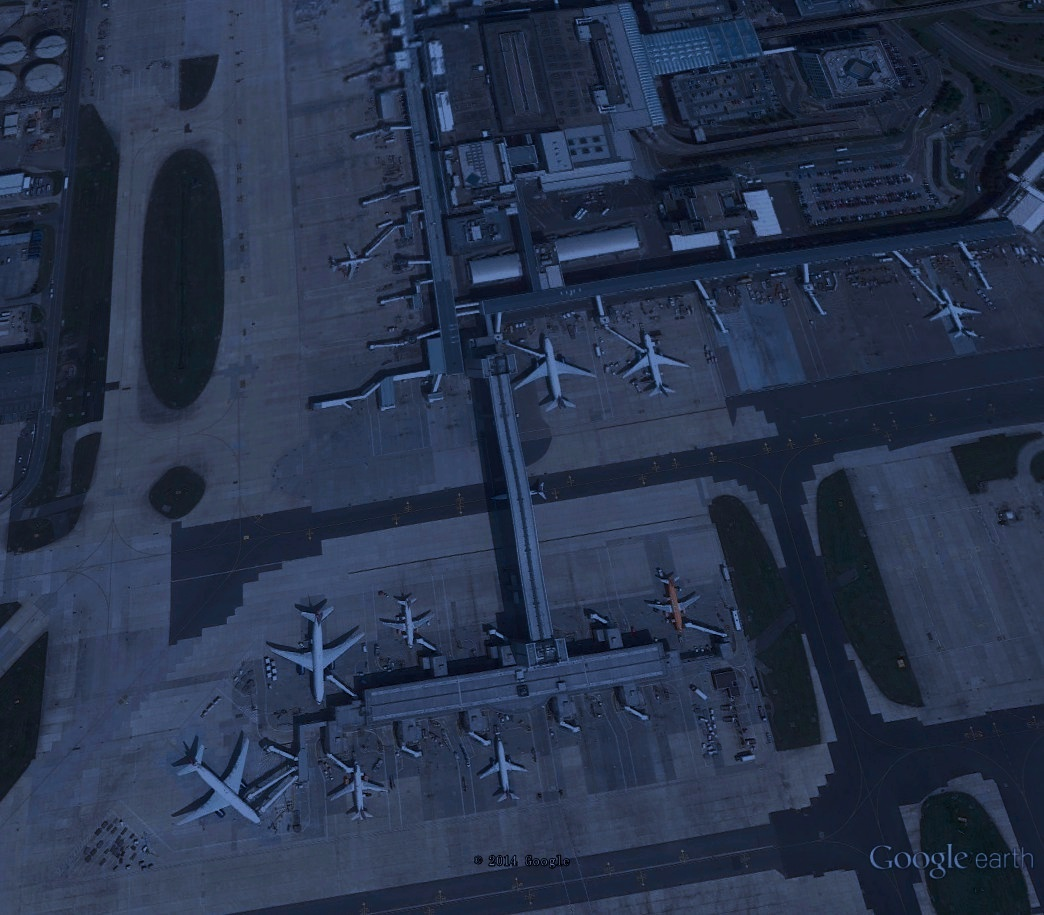aircraft: (264, 600, 372, 709), (168, 733, 267, 835), (507, 331, 603, 415), (616, 327, 693, 400), (640, 573, 706, 646), (324, 757, 390, 825), (472, 739, 534, 807), (925, 283, 988, 345), (376, 589, 438, 651), (325, 241, 372, 286)
